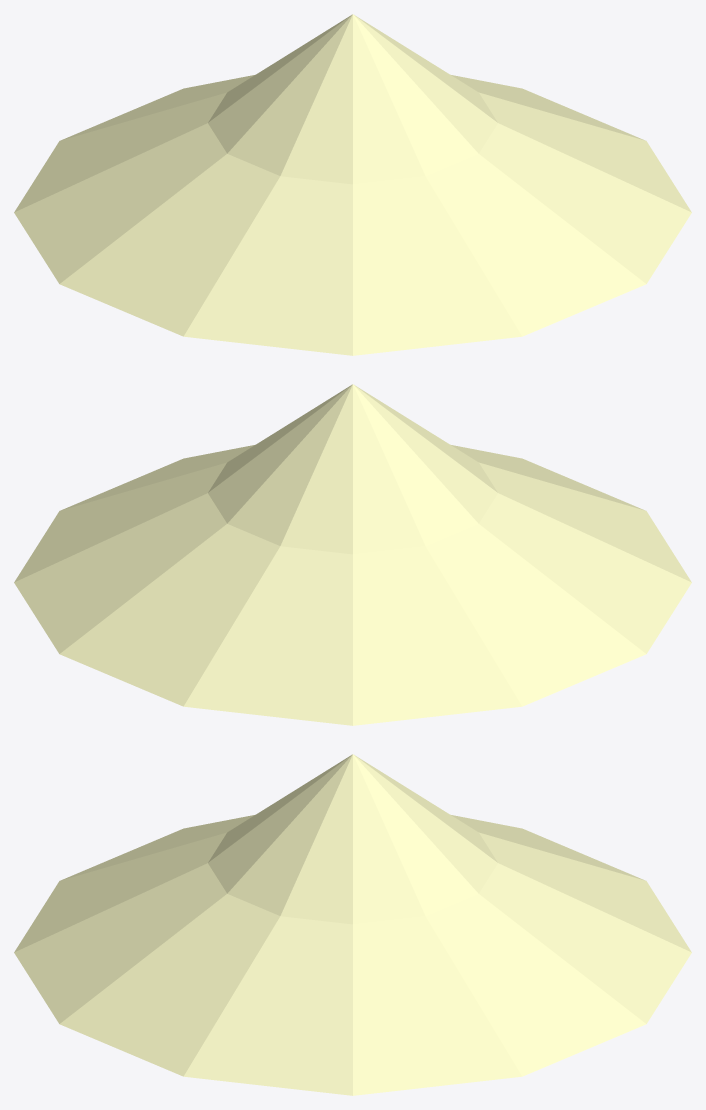
The model's file is Asian_Prop_Straw_Hat_02.FBX.
3 views of the same model, one above another, from view 1: azimuth 30°, elevation 25°; view 2: azimuth 150°, elevation 25°; view 3: azimuth 270°, elevation 25° (orthographic).
Visible parts, largest first — view 1: Asian_Prop_Straw_Hat_02; view 2: Asian_Prop_Straw_Hat_02; view 3: Asian_Prop_Straw_Hat_02.
Boxes of the visible parts, <box> form: Asian_Prop_Straw_Hat_02: <box>14,14,691,355</box>; Asian_Prop_Straw_Hat_02: <box>14,384,691,725</box>; Asian_Prop_Straw_Hat_02: <box>14,754,691,1095</box>.
Bounding box in the file's own units: 1380 × 446 × 1380.
